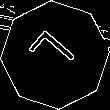L_SE: (26, 27, 84, 83)
